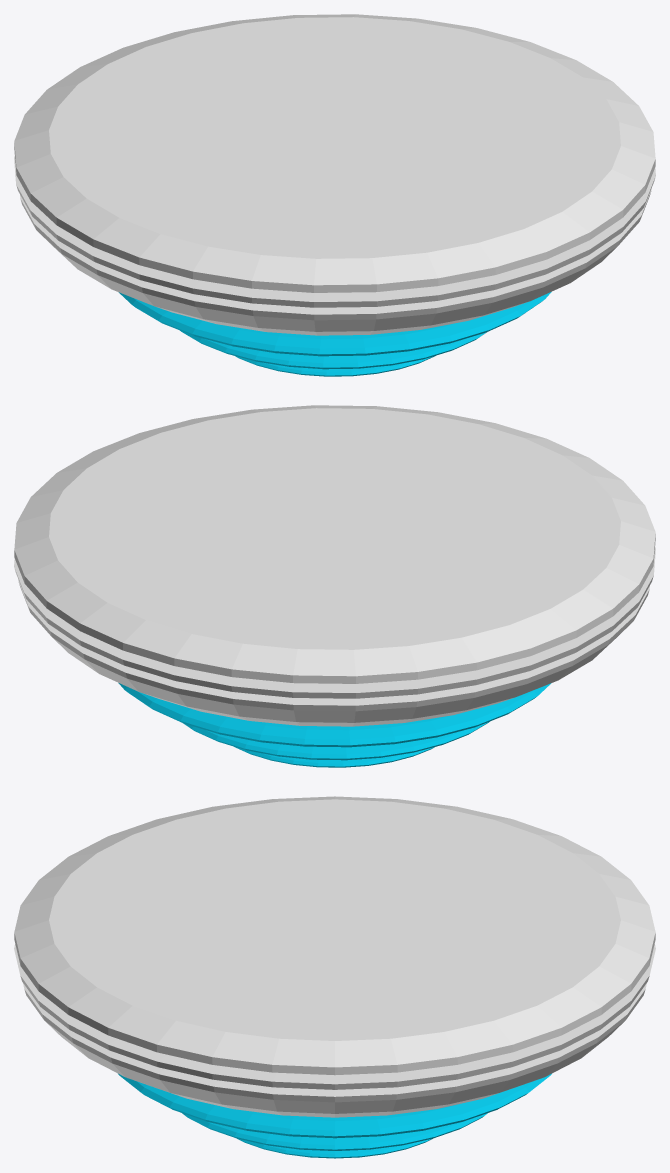
3 renders of one model, top to bottom at view 1: azimuth 30°, elevation 25°; view 2: azimuth 150°, elevation 25°; view 3: azimuth 270°, elevation 25°, orthographic.
Visible parts, largest first — view 1: base; view 2: base; view 3: base.
Part boxes in pixels (x1,y1,x2,y2): base: (14, 14, 655, 376); base: (14, 405, 655, 767); base: (14, 796, 655, 1158).
Size of the model in its own units: 1391 by 462 by 1391.
